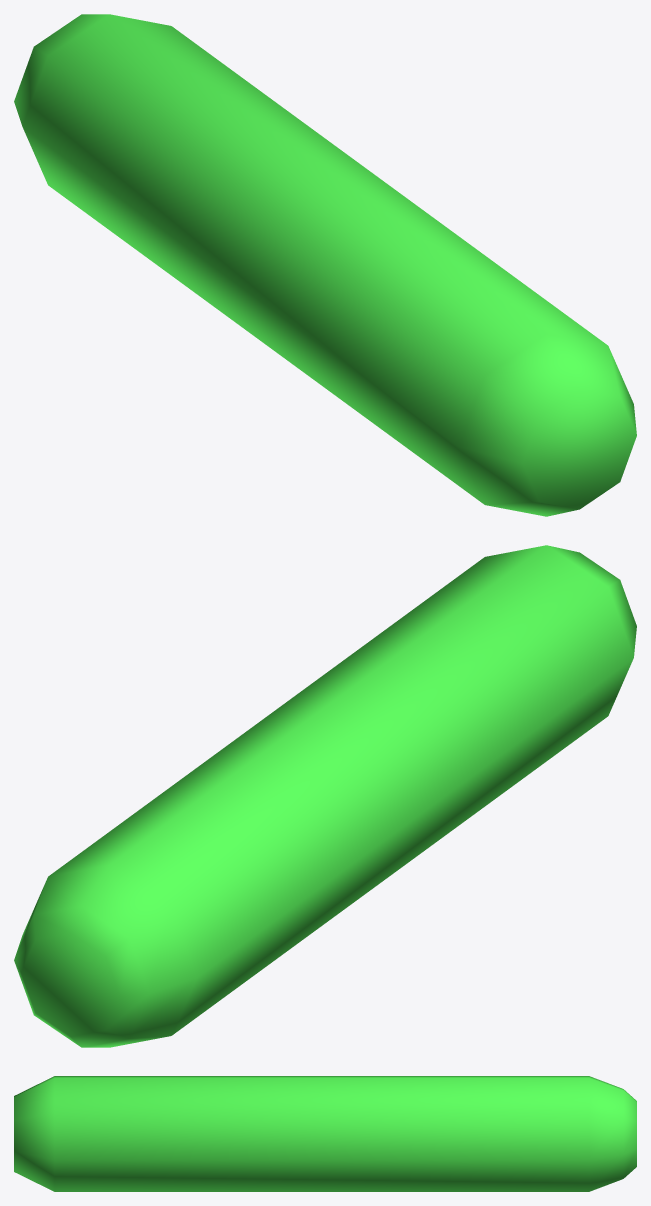
File: bala torreta.fbx
3 renders of one model, top to bottom at view 1: azimuth 30°, elevation 25°; view 2: azimuth 150°, elevation 25°; view 3: azimuth 270°, elevation 25°, orthographic. The views are drawn at different scales.
Parts seen in each view (by area): view 1: BalaPlasma; view 2: BalaPlasma; view 3: BalaPlasma.
Boxes of the visible parts, left/top/right/bottom form: BalaPlasma: left=14, top=14, right=636, bottom=516; BalaPlasma: left=14, top=545, right=636, bottom=1047; BalaPlasma: left=14, top=1076, right=636, bottom=1191.
Size of the model in its own units: 2.87 by 14.49 by 2.87.
1 material, 1 textured.
